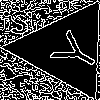Y: (40, 24, 100, 77)
